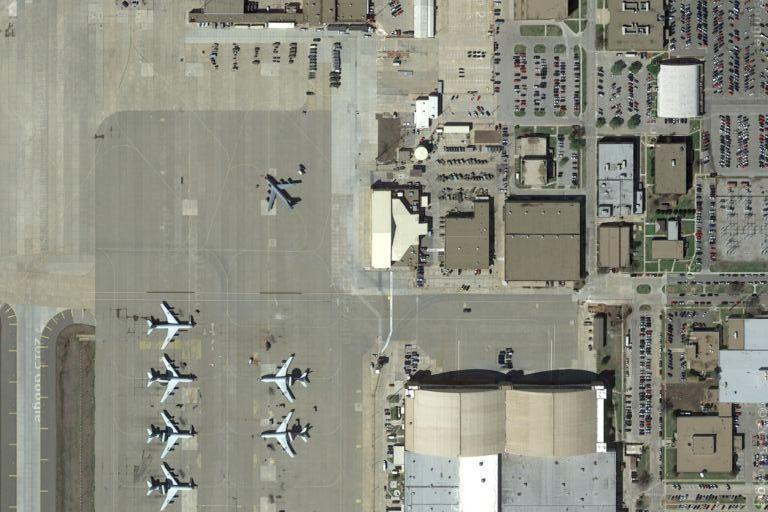E-3: (143, 351, 200, 404), (259, 353, 311, 406), (144, 411, 197, 463), (258, 409, 311, 459), (143, 462, 197, 510)
E-8: (144, 298, 197, 353)
KC-135: (260, 171, 305, 214)
